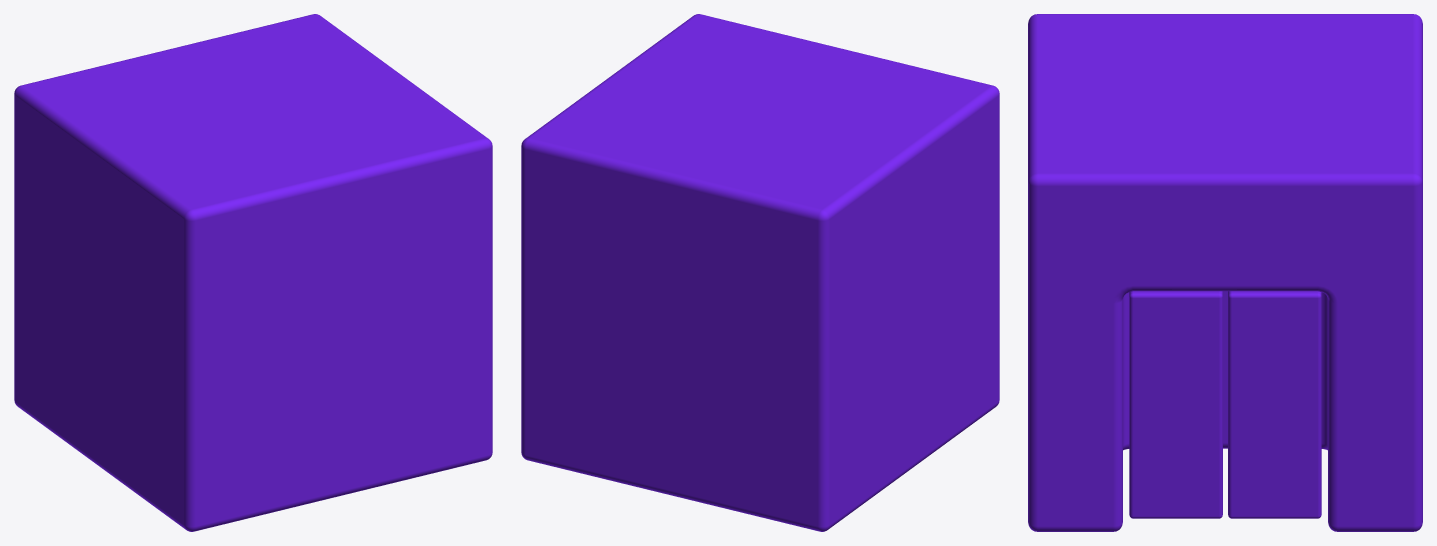
The model's file is elevator.glb.
The picture shows the model from 3 angles, left to right: view 1: azimuth 30°, elevation 25°; view 2: azimuth 150°, elevation 25°; view 3: azimuth 270°, elevation 25°; orthographic projection. The views are drawn at different scales.
Parts seen in each view (by area): view 1: Elevator.Walls; view 2: Elevator.Walls; view 3: Elevator.Walls, Elevator.Door.L, Elevator.Door.R.
Part boxes in pixels (x1,y1,x2,y2): Elevator.Walls: [14, 14, 492, 531]; Elevator.Walls: [521, 14, 999, 531]; Elevator.Walls: [1028, 14, 1422, 531]; Elevator.Door.L: [1129, 291, 1222, 518]; Elevator.Door.R: [1228, 291, 1321, 518].
Size of the model in its own units: 2 by 2 by 2.
